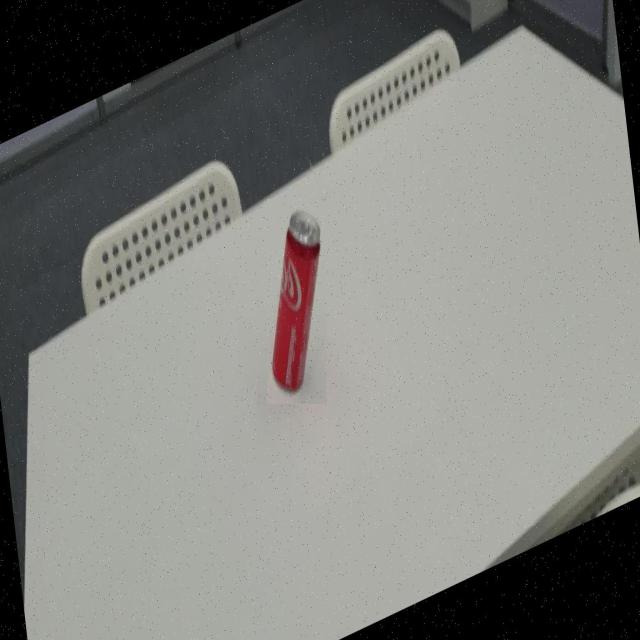coca-cola: (267, 199, 326, 404)
